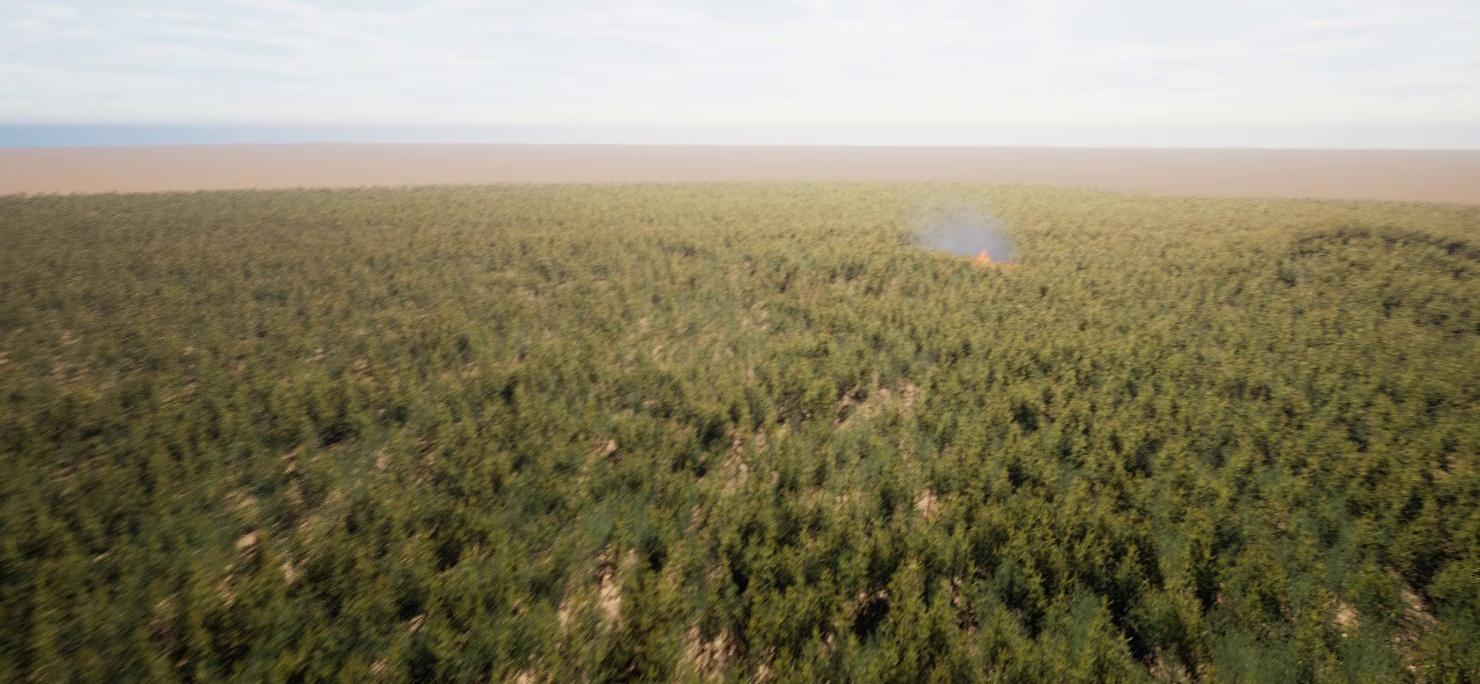fire: (972, 244, 1001, 261)
smoke: (913, 197, 1022, 268)
